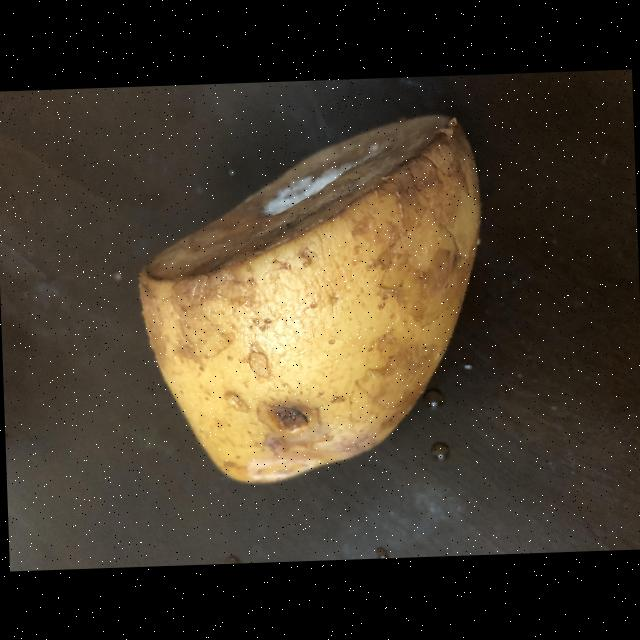Damaged potato: (136, 112, 492, 486)
